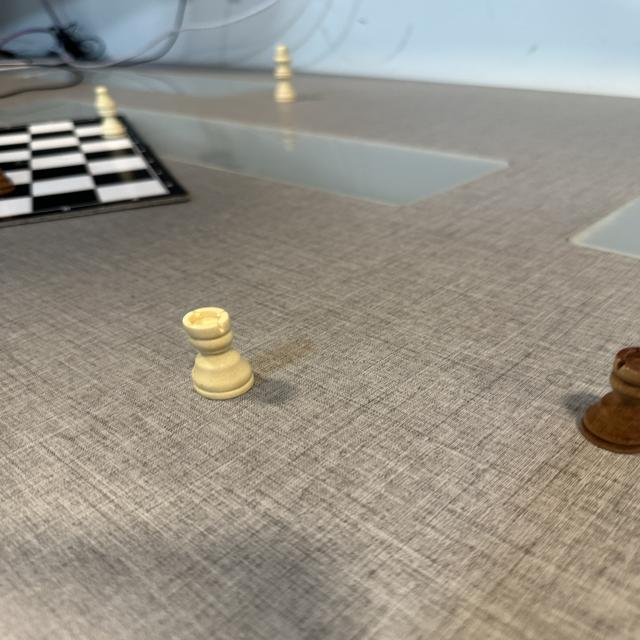Black-Rook: (578, 346, 640, 451)
White-Bishop: (95, 86, 124, 141)
White-King: (273, 42, 296, 104)
White-Rook: (182, 306, 257, 400)
